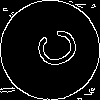C: (25, 25, 81, 75)
